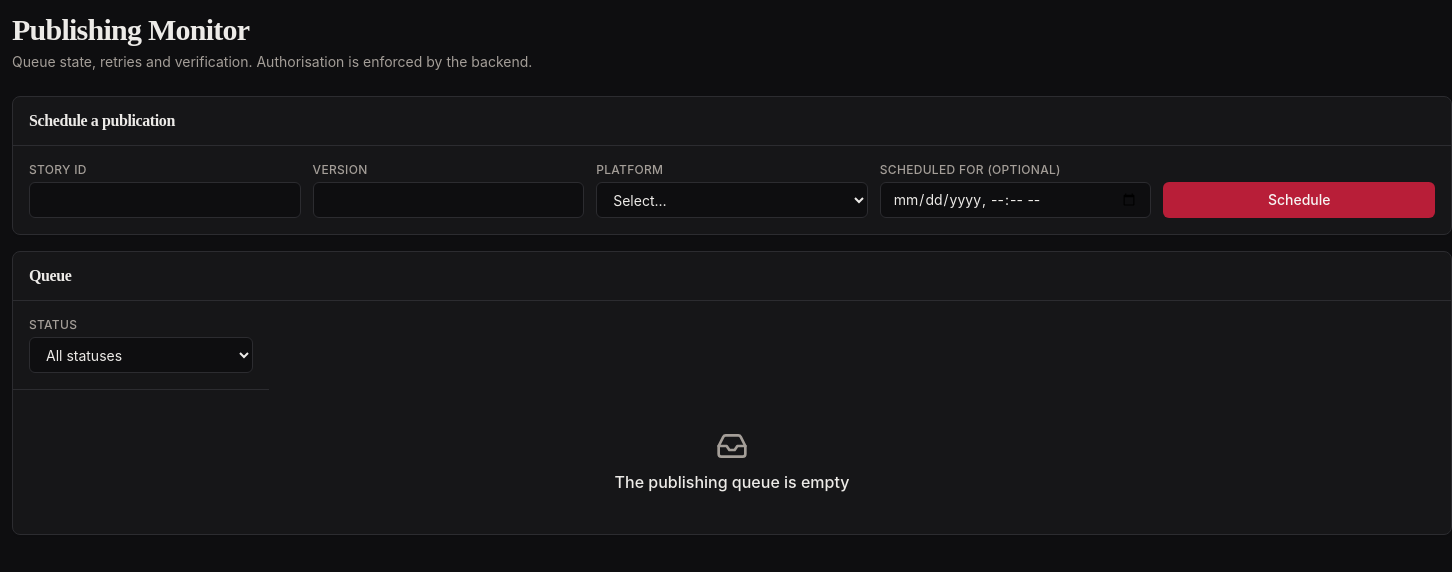
Test: PublishingMonitorPage › shows an empty state and validates the schedule form
expect the text "The publishing queue is empty" is shown: met, box [615,470,850,494]
Click the button "Schedule".
click(1299, 200)  # box [1163,182,1435,218]
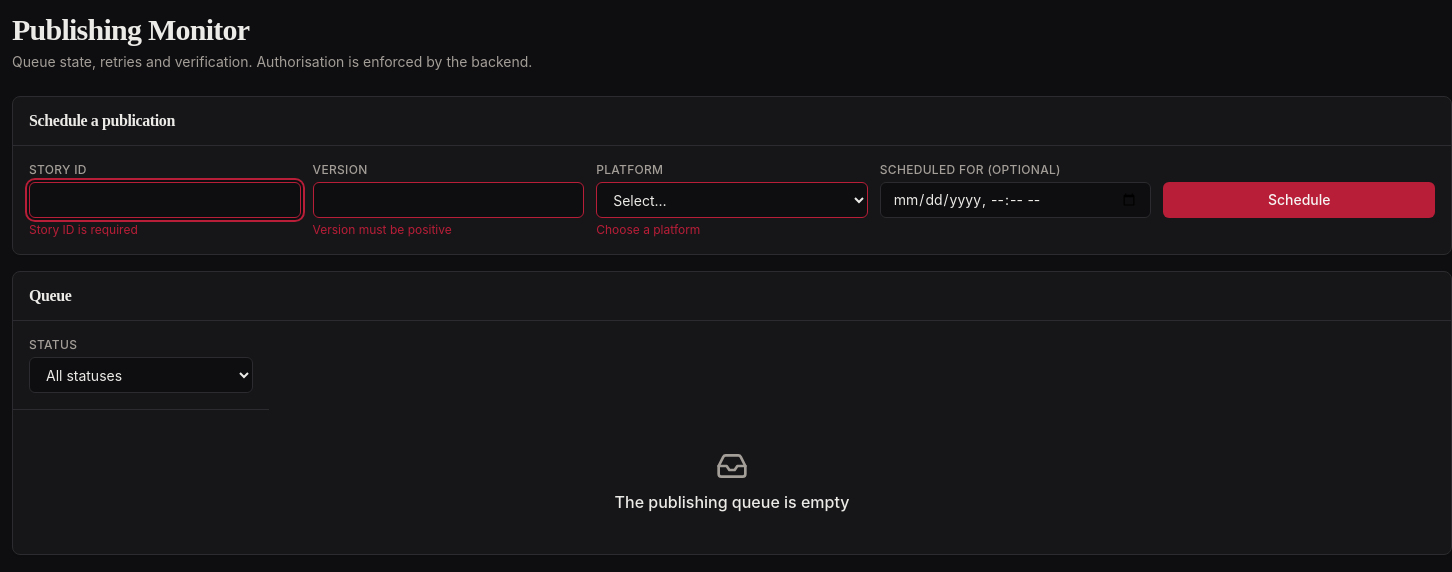
expect the text "Story ID is required" is shown: met, box [29,222,138,237]
